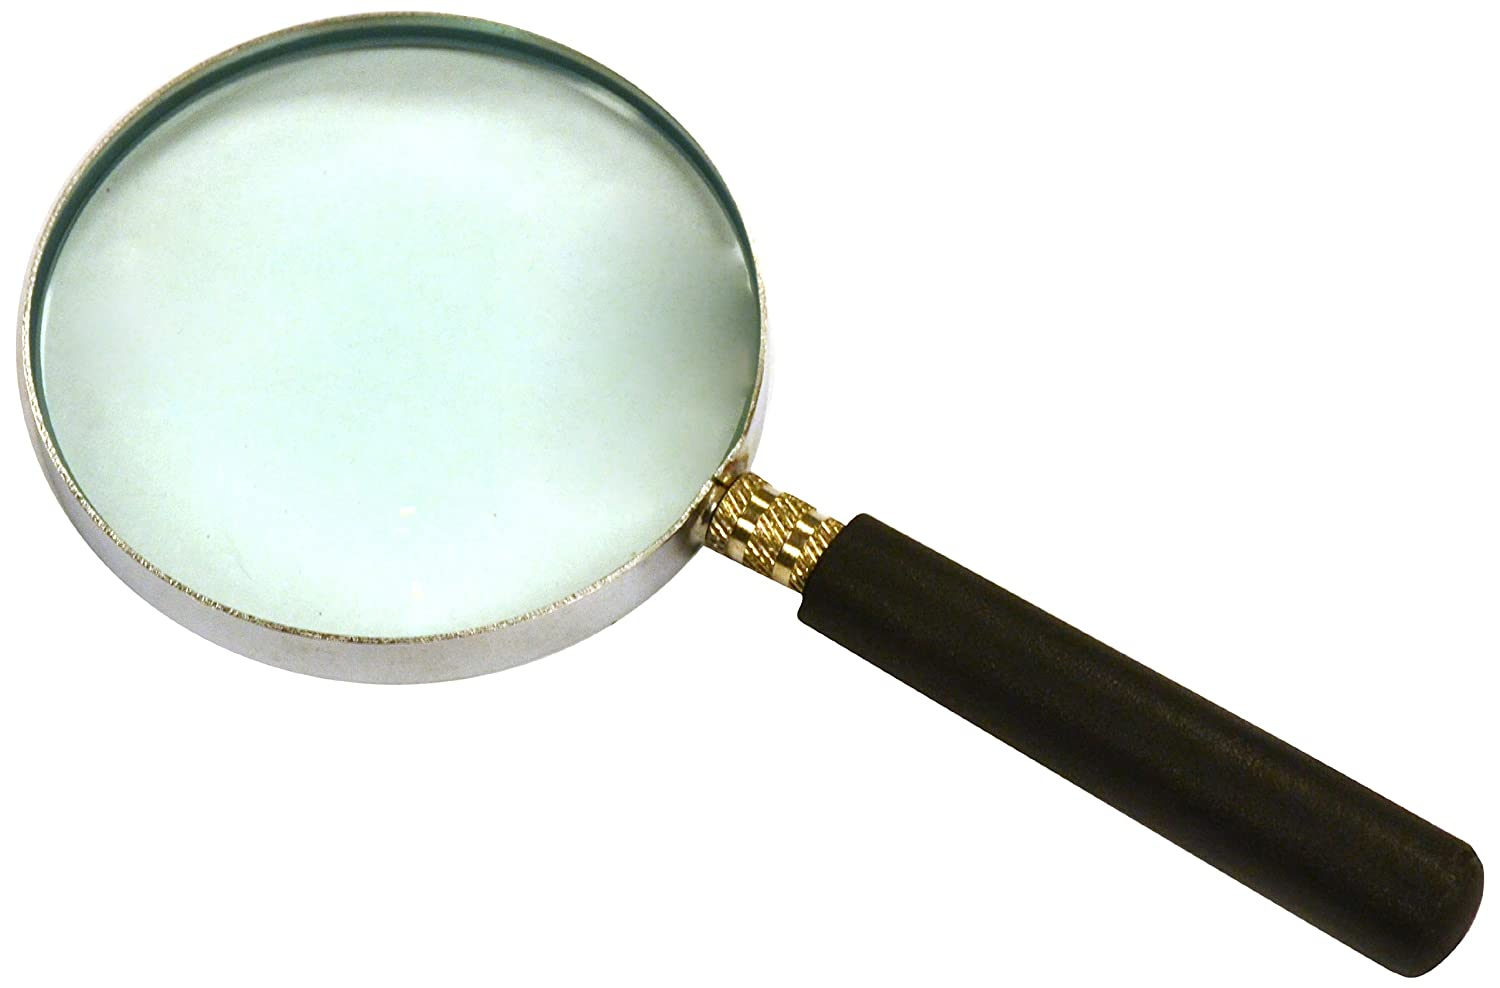magnifying-glass: (17, 22, 914, 679)
